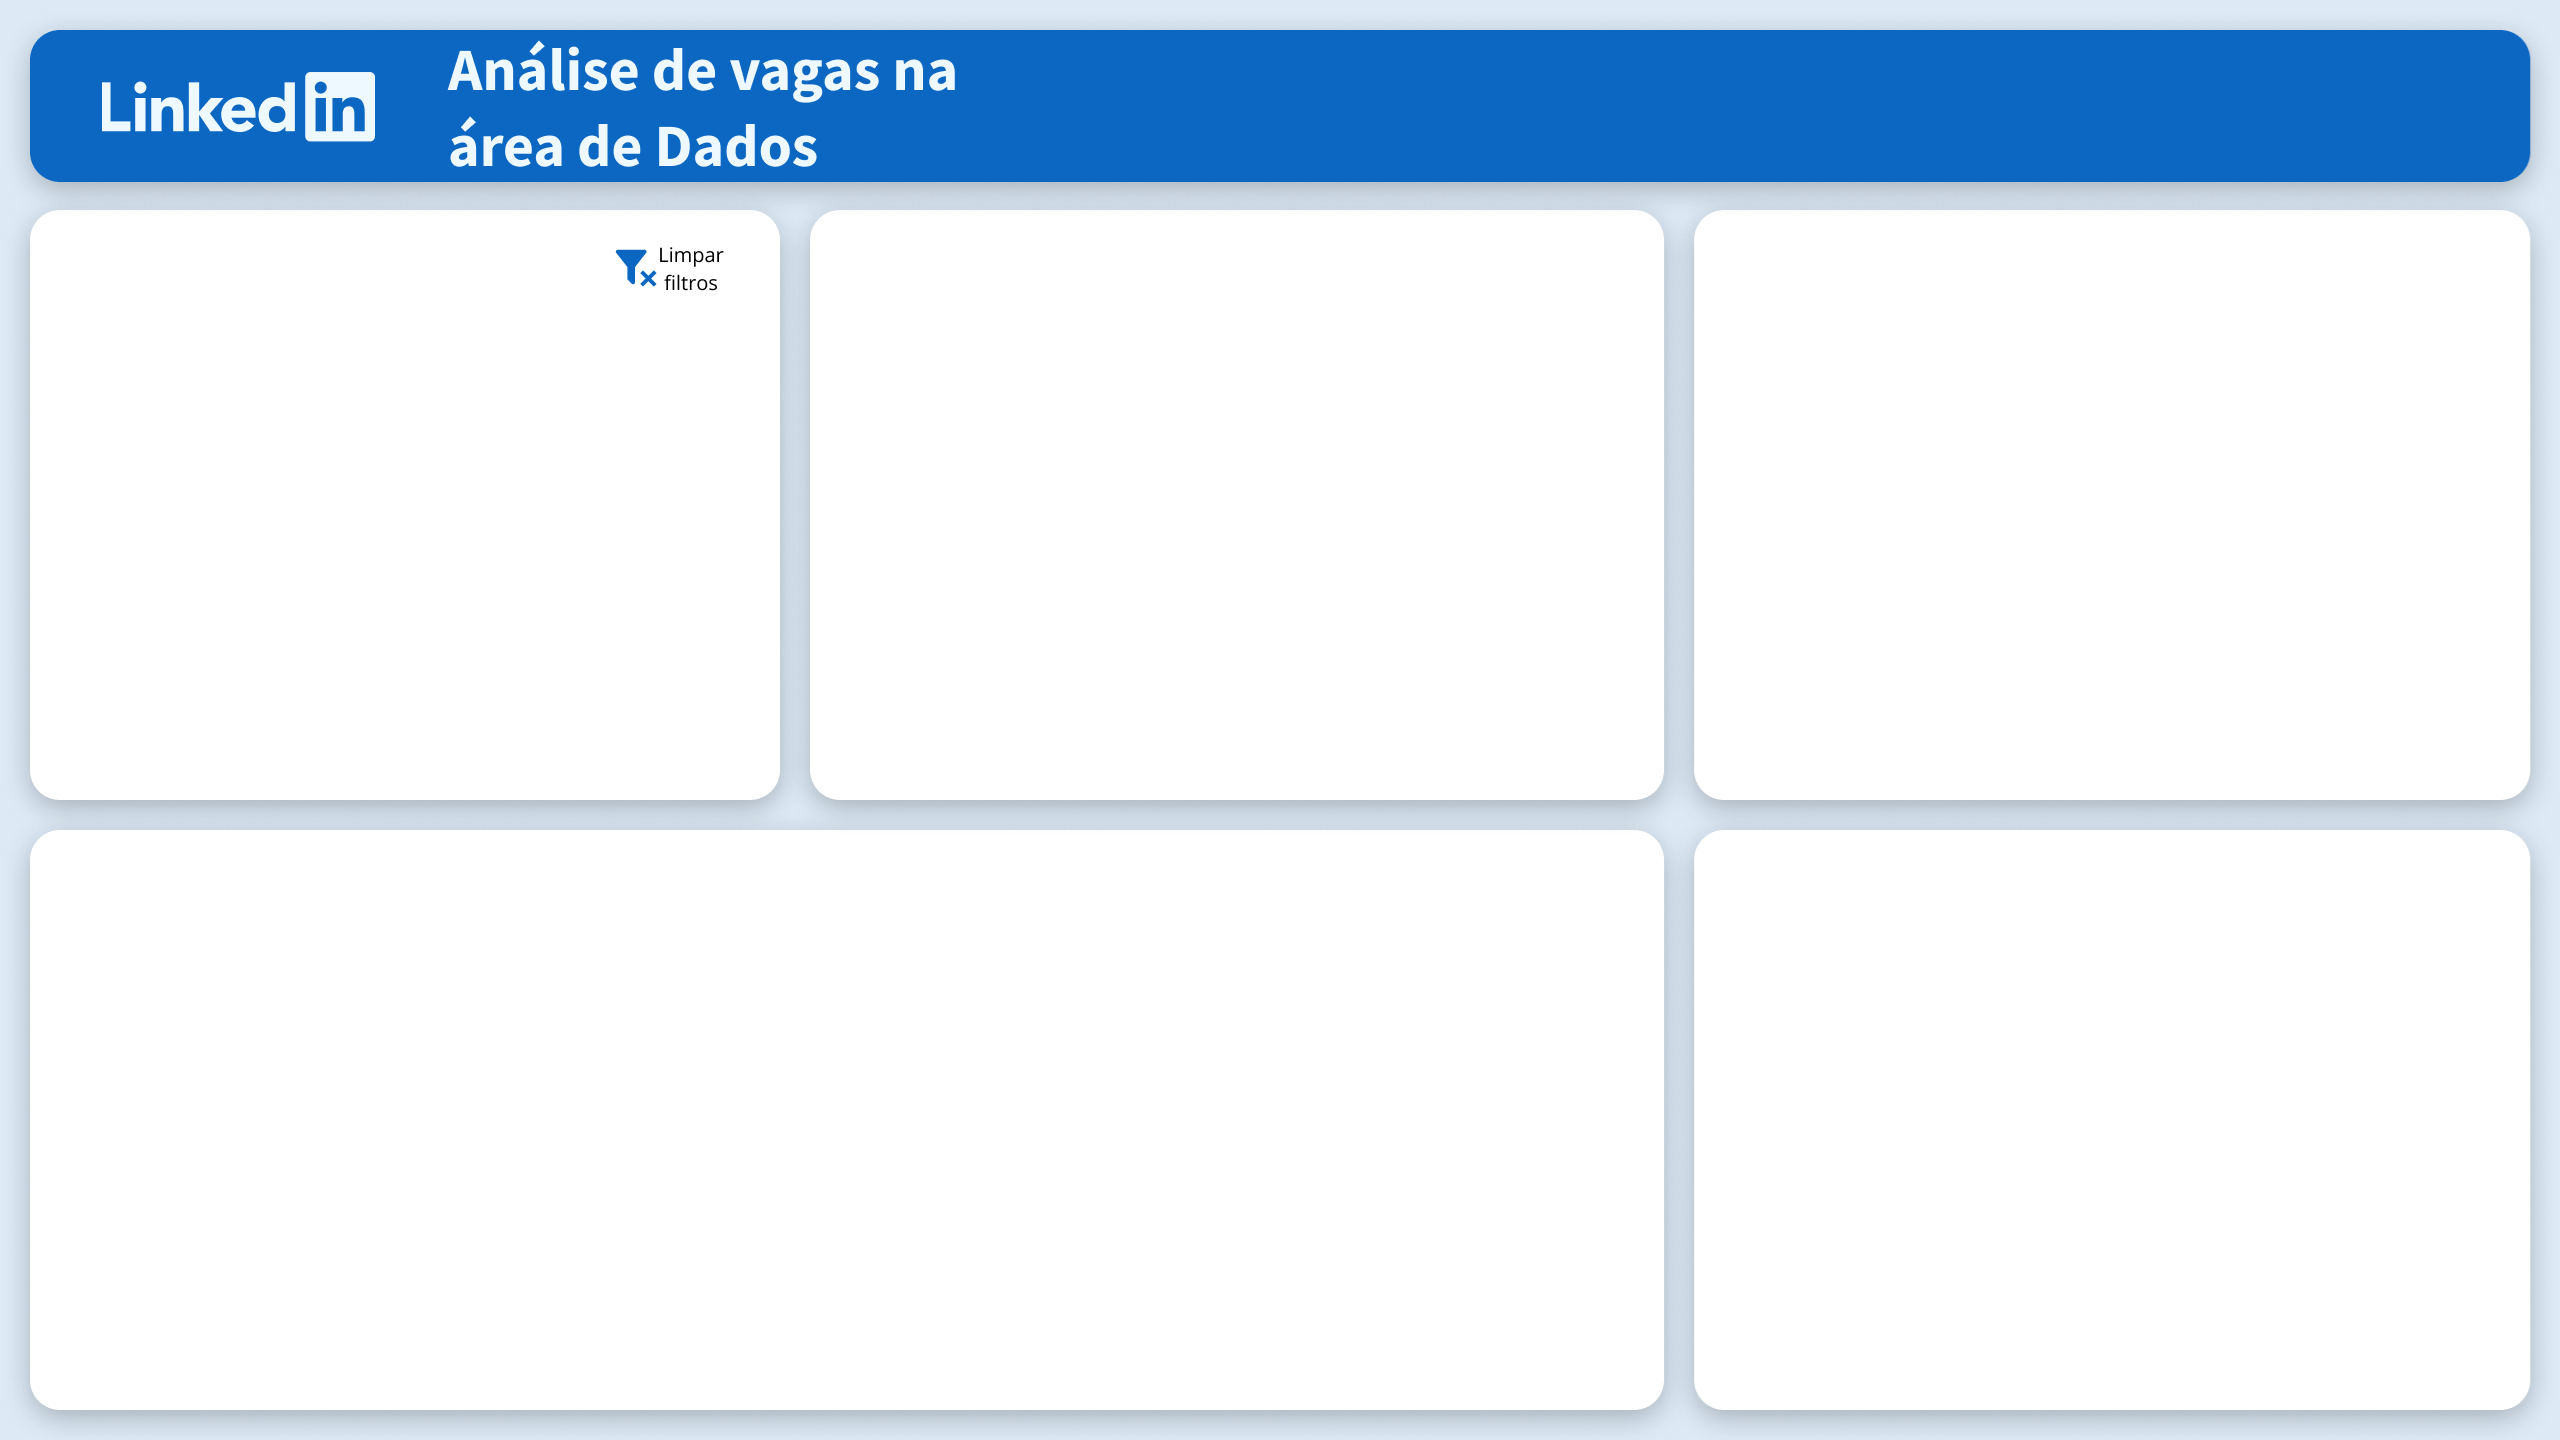

The page's visual inventory and layout, read from the dashboard file:
{"tool":"powerbi","page":{"name":"Page 1","canvas":[1280,720],"ordinal":0},"visuals":[{"type":"donutChart","fields":{"Category":["df_jobs_classified.classified_job_title"],"Y":["CountNonNull(df_jobs_classified.classified_job_title)"]},"box":[0,0,555.9,369.1],"z":0},{"type":"barChart","fields":{"Category":["df_skills.skill"],"Y":["CountNonNull(df_skills.skill)"]},"box":[603,50.6,556.4,340.4],"z":1},{"type":"slicer","fields":{"Values":["df_jobs_classified.classified_job_title"]},"box":[0,379.3,409.5,340.4],"z":2}]}

Visuals, with their boxes in screenshot pixels (x1, y1, x2, y2), scaled from the page's 1280x720 canvas onto the 2560x1440 screenshot:
donutChart - df_jobs_classified.classified_job_title x CountNonNull(df_jobs_classified.classified_job_title): select_region(0, 0, 1112, 738)
barChart - df_skills.skill x CountNonNull(df_skills.skill): select_region(1206, 101, 2319, 782)
slicer - df_jobs_classified.classified_job_title: select_region(0, 759, 819, 1439)
